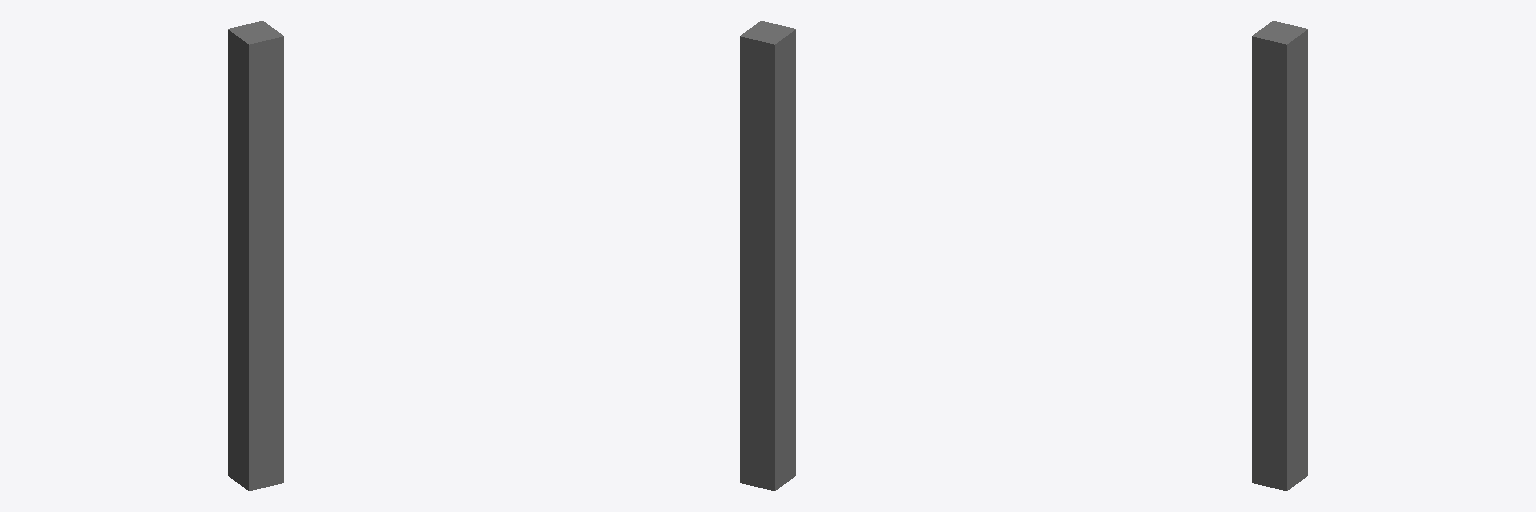
The robot description file, URDF, robot "adapter_station_square_socket":
<robot name="adapter_station_square_socket">
  
  
  
  
  
  
  
  
  
  
  <link name="world"><inertial><mass value="0.0" /><origin rpy="0 0 0" xyz="0 0 0" /><inertia ixx="0.0" ixy="0.0" ixz="0.0" iyy="0.0" iyz="0.0" izz="0.0" /></inertial></link>
  <joint name="world_joint" type="fixed">
    <parent link="world" />
    <child link="station_base_link" />
    <origin rpy="0.0 0.0 0.0" xyz="0.0 0.0 0.5762499999999999" />
  </joint>
  <link name="station_base_link">
    <inertial>
      <mass value="20.0" />
      <origin rpy="0 0 0" xyz="0 0 0" />
      <inertia ixx="2.2304261911624996" ixy="0.0" ixz="0.0" iyy="2.2288011918124995" iyz="0.0" izz="0.03170832065" />
    </inertial>
    <visual>
      <material name="grey">
        <color rgba="0.5 0.5 0.5 1" />
      </material>
      <orign rpy="0.0 0.0 0.0" xyz="0.0 0.0 0.0" />
      <geometry>
        <box size="0.095 0.1 1.1524999999999999" />
      </geometry>
    </visual>
    <collision>
      <orign rpy="0.0 0.0 0.0" xyz="0.0 0.0 0.0" />
      <geometry>
        <box size="0.095 0.1 1.1524999999999999" />
      </geometry>
    </collision>
  </link>
  <joint name="socket_joint" type="fixed">
    <parent link="world" />
    <child link="socket_link" />
    <origin rpy="1.5707963267948966 0.0 0.0" xyz="0.0 0.0 1.2" />
  </joint>
  <link name="socket_link">
    <visual>
      <origin rpy="0 0 0" xyz="0 0 0" />
      <geometry>
        <mesh filename="package://chargepal_tools/sockets/meshes/visual/octagonal_hole.obj" scale="0.001 0.001 0.001" />
      </geometry>
      <material name="grey">
        <color rgba="0.5 0.5 0.5 1" />
      </material>
    </visual>
    <collision>
      <origin rpy="0 0 0" xyz="0 0 0" />
      <geometry>
        <mesh filename="package://chargepal_tools/sockets/meshes/collision/octagonal_hole.obj" scale="0.001 0.001 0.001" />
      </geometry>
    </collision>
    <inertial>
      <mass value="2.0" />
      <origin rpy="0 0 0" xyz="0 0 0" />
      <inertia ixx="0.003170832065" ixy="0.0" ixz="0.0" iyy="0.0030083321299999998" iyz="0.0" izz="0.003170832065" />
    </inertial>
  </link>
  <joint name="target_ref_frame_joint" type="fixed">
    <parent link="world" />
    <child link="target_reference_frame" />
    <axis xyz="0 0 0" />
    <origin rpy="1.5707963267948966 0 3.141592653589793" xyz="0 -0.05 1.2" />
  </joint>
  <link name="target_reference_frame">
    <inertial>
      <mass value="0.0" />
      <origin rpy="0 0 0" xyz="0 0 0" />
      <inertia ixx="0.0" ixy="0.0" ixz="0.0" iyy="0.0" iyz="0.0" izz="0.0" />
    </inertial>
  </link>
  <joint name="virt_tgt_frame_x_joint" type="fixed">
    <parent link="target_reference_frame" />
    <child link="virt_tgt_frame_x" />
    <axis xyz="0 0 0" />
    <origin rpy="0 0 0" xyz="1 0 0" />
  </joint>
  <link name="virt_tgt_frame_x">
    <inertial>
      <mass value="0.0" />
      <origin rpy="0 0 0" xyz="0 0 0" />
      <inertia ixx="0.0" ixy="0.0" ixz="0.0" iyy="0.0" iyz="0.0" izz="0.0" />
    </inertial>
  </link>
  <joint name="virt_tgt_frame_y_joint" type="fixed">
    <parent link="target_reference_frame" />
    <child link="virt_tgt_frame_y" />
    <axis xyz="0 0 0" />
    <origin rpy="0 0 0" xyz="0 1 0" />
  </joint>
  <link name="virt_tgt_frame_y">
    <inertial>
      <mass value="0.0" />
      <origin rpy="0 0 0" xyz="0 0 0" />
      <inertia ixx="0.0" ixy="0.0" ixz="0.0" iyy="0.0" iyz="0.0" izz="0.0" />
    </inertial>
  </link>
  <joint name="virt_tgt_frame_z_joint" type="fixed">
    <parent link="target_reference_frame" />
    <child link="virt_tgt_frame_z" />
    <axis xyz="0 0 0" />
    <origin rpy="0 0 0" xyz="0 0 1" />
  </joint>
  <link name="virt_tgt_frame_z">
    <inertial>
      <mass value="0.0" />
      <origin rpy="0 0 0" xyz="0 0 0" />
      <inertia ixx="0.0" ixy="0.0" ixz="0.0" iyy="0.0" iyz="0.0" izz="0.0" />
    </inertial>
  </link>
  <gazebo reference="socket_station">
    <material>Gazebo/Grey</material>
  </gazebo>
</robot>

--- Render facts (derived) ---
Views: 3 orthographic renders of the robot side by side, from view 1: azimuth 30°, elevation 25°; view 2: azimuth 150°, elevation 25°; view 3: azimuth 330°, elevation 25°.
Robot: adapter_station_square_socket — 7 links, 6 joints (6 fixed); root link world; default pose: every joint at zero.
Links seen in each view (by area): view 1: station_base_link; view 2: station_base_link; view 3: station_base_link.
Link boxes in pixels (bbox=[...]): station_base_link: bbox=[228, 21, 283, 490]; station_base_link: bbox=[740, 21, 795, 490]; station_base_link: bbox=[1252, 21, 1307, 490].
Size in the robot's own frame: 0.095 by 0.1 by 1.15 metres.
0 mesh visuals loaded from 1 distinct referenced files (none loaded); not drawn: 1 (reference not matched to a file when rendering).